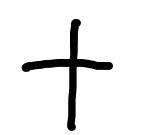plus: (22, 19, 113, 131)
